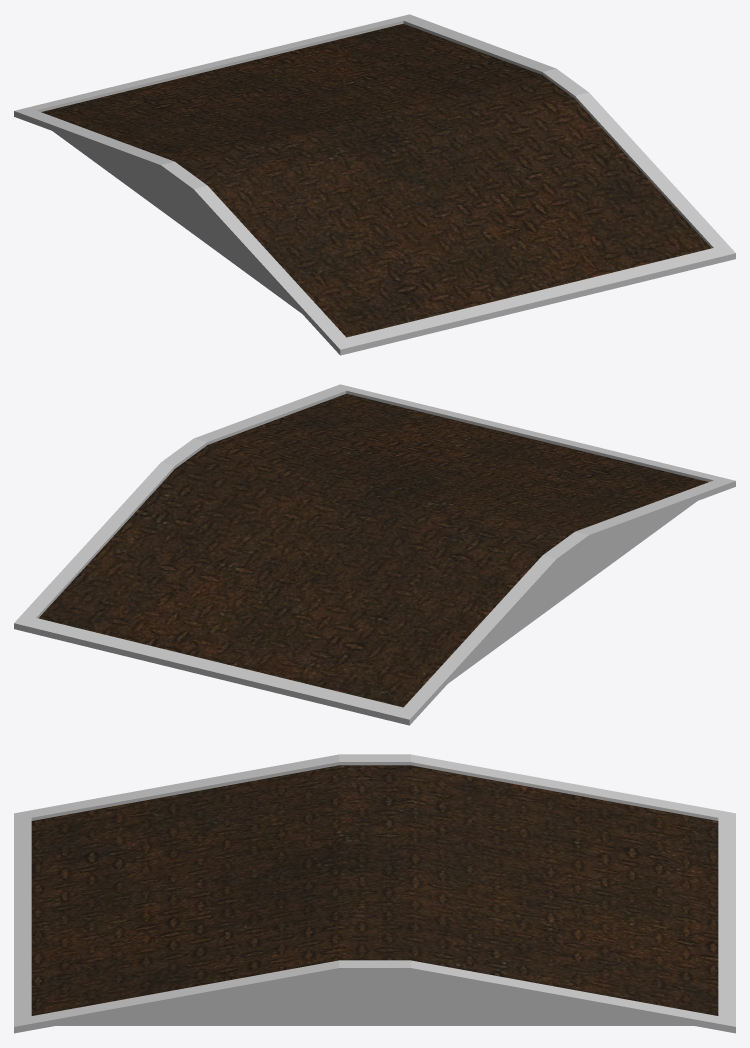
File: tunnel_entrance_platform_1.fbx
3 views of the same model, one above another, from view 1: azimuth 30°, elevation 25°; view 2: azimuth 150°, elevation 25°; view 3: azimuth 270°, elevation 25° (orthographic). The views are drawn at different scales.
Parts seen in each view (by area): view 1: tunnel_entrance_platform_1; view 2: tunnel_entrance_platform_1; view 3: tunnel_entrance_platform_1.
Boxes of the visible parts, bbox=[...] form: tunnel_entrance_platform_1: bbox=[14, 14, 735, 355]; tunnel_entrance_platform_1: bbox=[14, 384, 735, 725]; tunnel_entrance_platform_1: bbox=[14, 754, 735, 1033].
Bounding box in the file's own units: 1.4 × 0.2 × 2.
